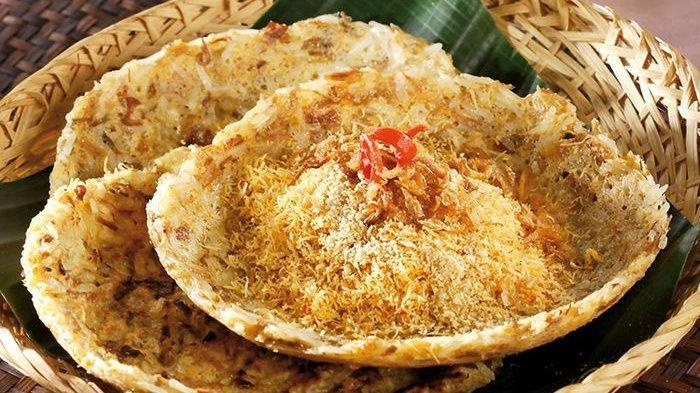kerak_telor: (140, 47, 680, 371)
